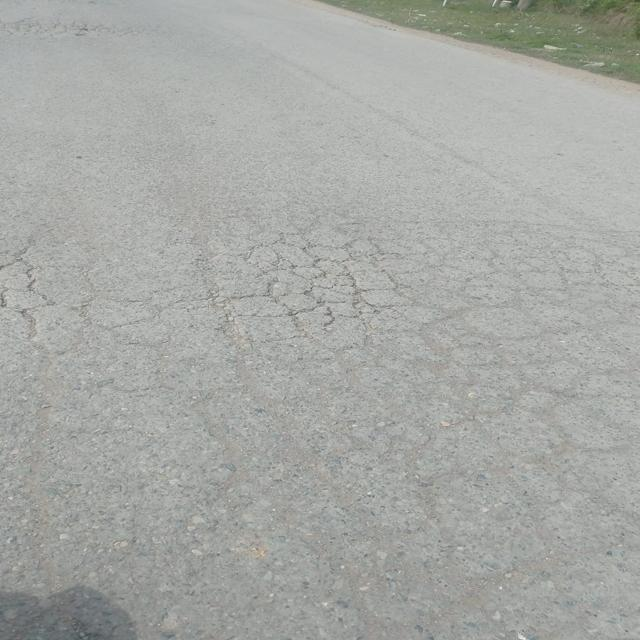Retak Buaya: (232, 225, 408, 359)
